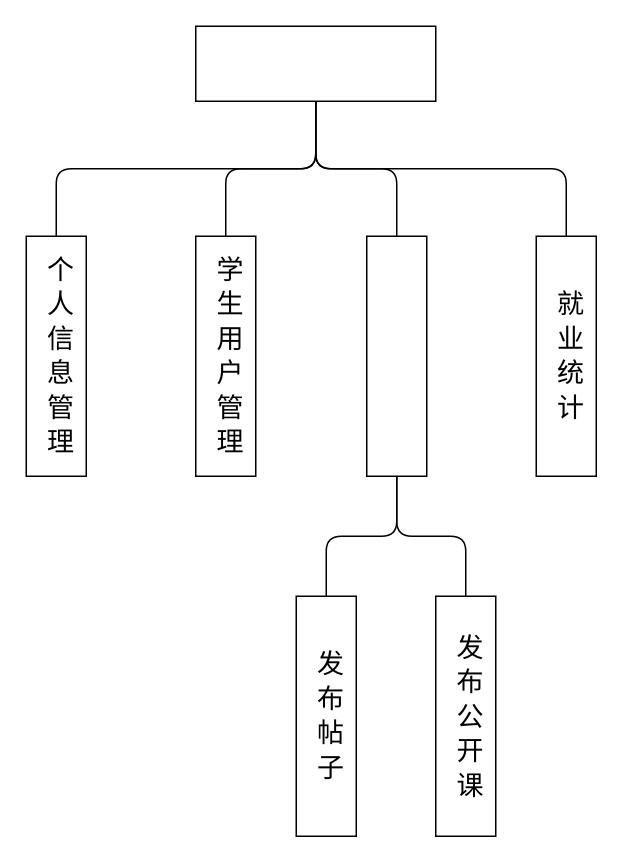
Some shapes in this 623 by 863 pixel diagram are drawn without their labels. Here are the shapes that lost their labels. From the top down, the centre of each, then its label:
At pixel 315 63: "辅导员模块".
At pixel 396 355: "就 业 指 导 管 理".
